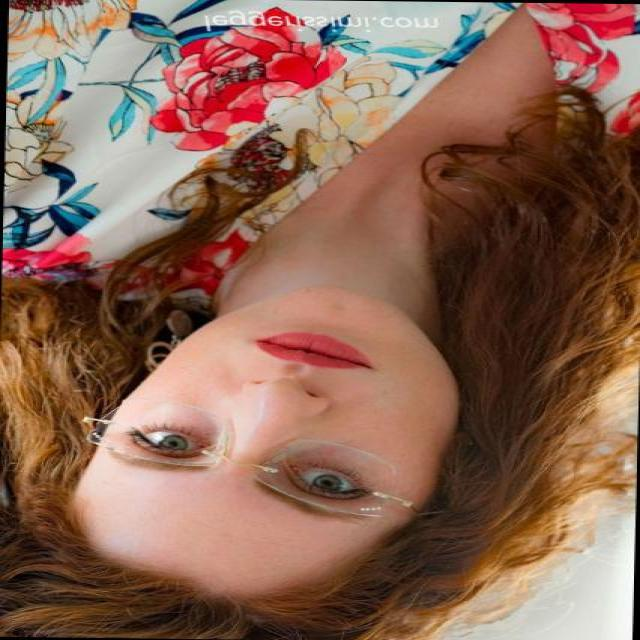glasses: (71, 401, 426, 521)
